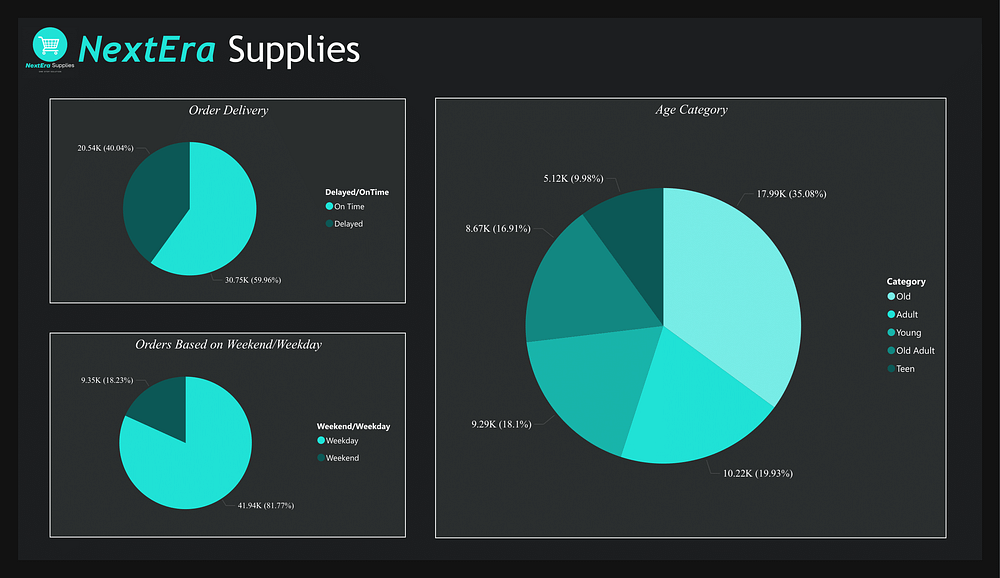

Layout of this report page (visuals, bound fields, positions):
{"tool":"powerbi","page":{"name":"Page 5","canvas":[1280,720],"ordinal":4},"visuals":[{"type":"image","box":[0,0,84.7,84.7],"z":0},{"type":"textbox","box":[74.1,8.2,394.1,68.2],"z":1000},{"type":"pieChart","title":"Order Delivery","fields":{"Category":["Orders.Delayed/OnTime"],"Y":["CountNonNull(Orders.Customer ID)"]},"box":[42.5,106.2,487.5,280],"z":2000},{"type":"pieChart","title":"Orders Based on  Weekend/Weekday","fields":{"Category":["Orders.Weekend/Weekday"],"Y":["CountNonNull(Orders.Order ID)"]},"box":[42.5,407.5,487.5,282.5],"z":3000},{"type":"pieChart","title":"Age Category","fields":{"Y":["CountNonNull(Orders.Order ID)"],"Category":["Customer.Category"]},"box":[553.8,178.8,678.8,512.5],"z":4000},{"type":"card","title":"Sales From April to November","fields":{"Values":["Measure Table.Desired Sales"]},"box":[553.8,21.2,678.8,131.2],"z":5000}]}

Visuals, with their boxes in screenshot pixels (x1, y1, x2, y2), scaled from the page's 1280x720 canvas onto the 1000x578 screenshot:
image: (left=0, top=0, right=66, bottom=68)
textbox: (left=58, top=7, right=366, bottom=61)
"Order Delivery" pieChart: (left=33, top=85, right=414, bottom=310)
"Orders Based on  Weekend/Weekday" pieChart: (left=33, top=327, right=414, bottom=554)
"Age Category" pieChart: (left=433, top=144, right=963, bottom=555)
"Sales From April to November" card: (left=433, top=17, right=963, bottom=122)
